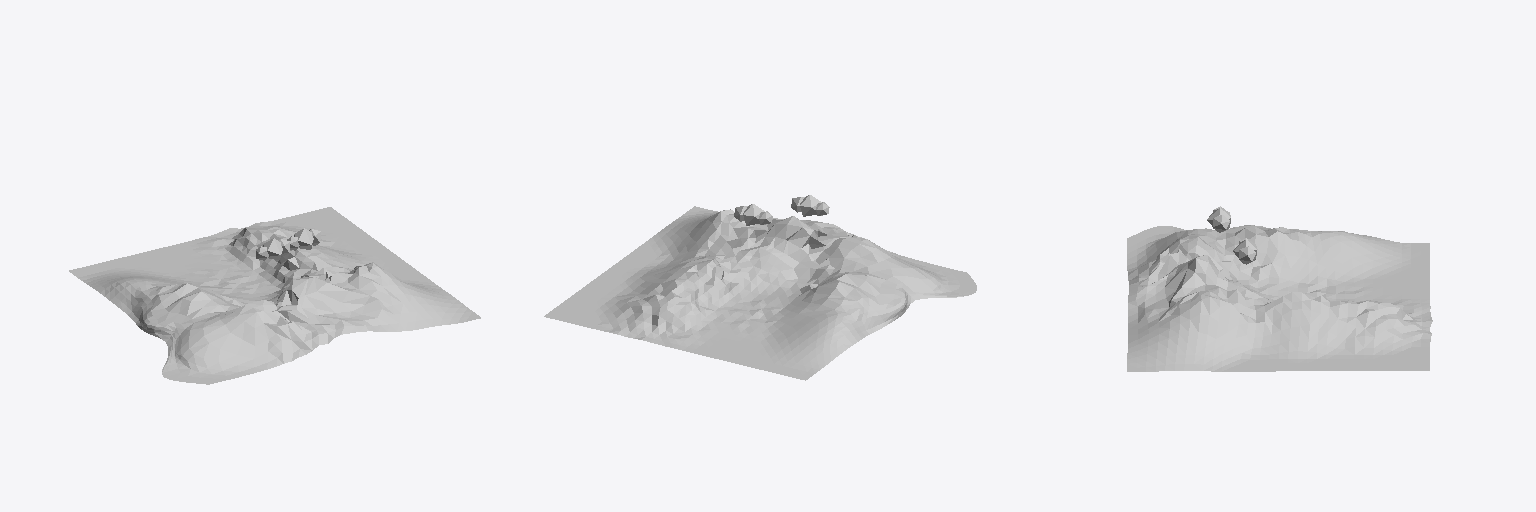
The model's file is mtn.obj.
3 renders of one model, left to right at view 1: azimuth 30°, elevation 25°; view 2: azimuth 150°, elevation 25°; view 3: azimuth 270°, elevation 25°, orthographic.
Visible parts, largest first — view 1: Plane, Icosphere.000_Icosphere.003, Icosphere.002; view 2: Plane, Icosphere.002, Icosphere.000_Icosphere.003; view 3: Plane.
Boxes of the visible parts, x1=… form: Plane: x1=69, y1=207, x2=480, y2=384; Icosphere.000_Icosphere.003: x1=256, y1=238, x2=289, y2=260; Icosphere.002: x1=287, y1=228, x2=320, y2=250; Plane: x1=544, y1=206, x2=976, y2=380; Icosphere.002: x1=734, y1=204, x2=772, y2=225; Icosphere.000_Icosphere.003: x1=791, y1=195, x2=829, y2=216; Plane: x1=1127, y1=225, x2=1432, y2=371.
Bounding box in the file's own units: 14.72 × 4.01 × 13.02.